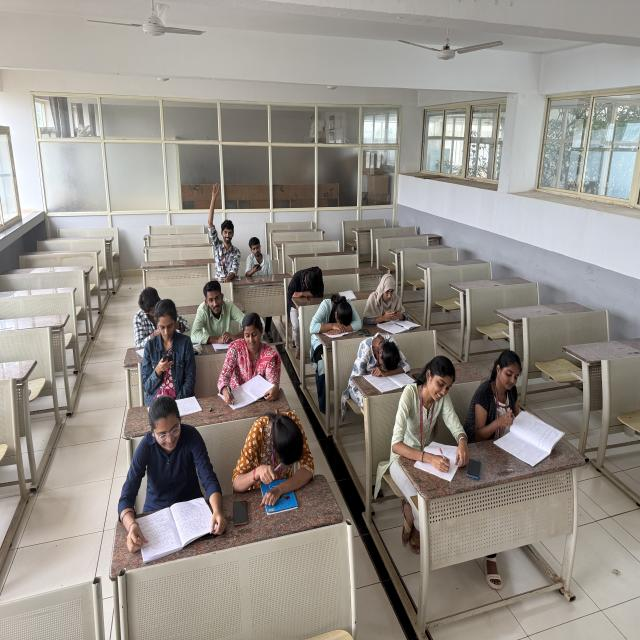Hand Rising: (203, 181, 247, 277)
Reading: (121, 400, 228, 557), (471, 349, 564, 462)
Sleeping: (236, 394, 316, 566), (347, 330, 411, 385), (311, 292, 365, 334), (286, 260, 329, 302)
Using Phone: (132, 297, 203, 396), (361, 266, 415, 322), (244, 234, 276, 281)
Writing: (395, 356, 476, 477), (215, 314, 285, 409)
